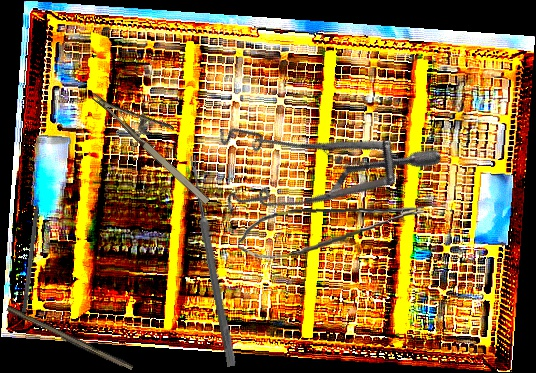Hook Surgical: (22, 189, 43, 313)
Micro Scissor: (235, 199, 428, 263)
Needle Holder: (89, 69, 229, 209)
Scalpel Handle: (4, 305, 135, 373)
Speculum: (189, 38, 444, 270)
Surgical Spoon: (186, 155, 238, 367)
